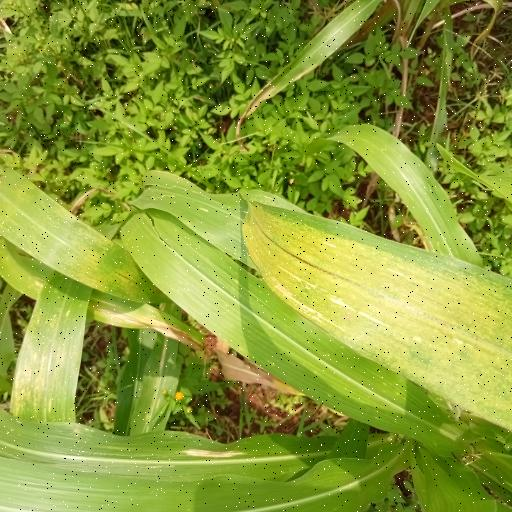Corn_Brown_Spots: (230, 186, 512, 427), (0, 154, 155, 425)
